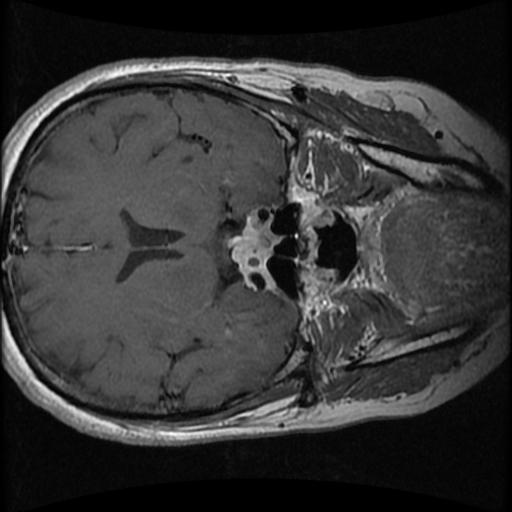pituitary tumour: (228, 214, 280, 275)
